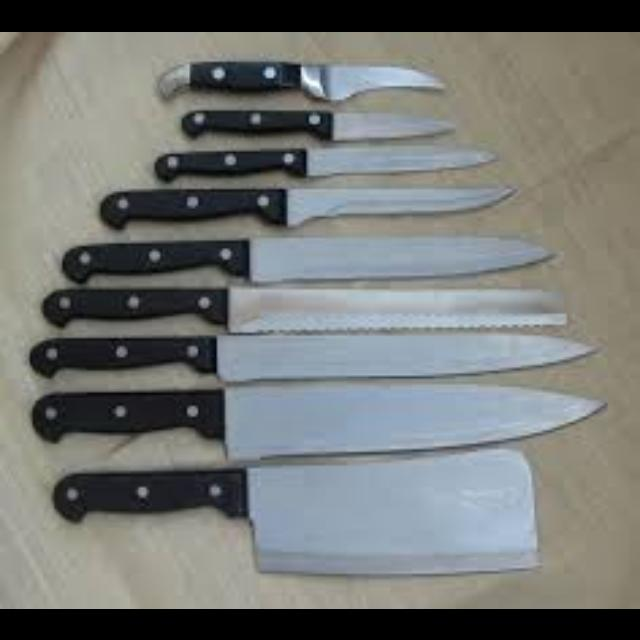Knife: (52, 446, 540, 574), (30, 381, 608, 454), (28, 330, 602, 378), (41, 283, 567, 329), (60, 232, 558, 280), (98, 184, 518, 226), (152, 143, 496, 180), (155, 56, 445, 98), (179, 107, 455, 139)
